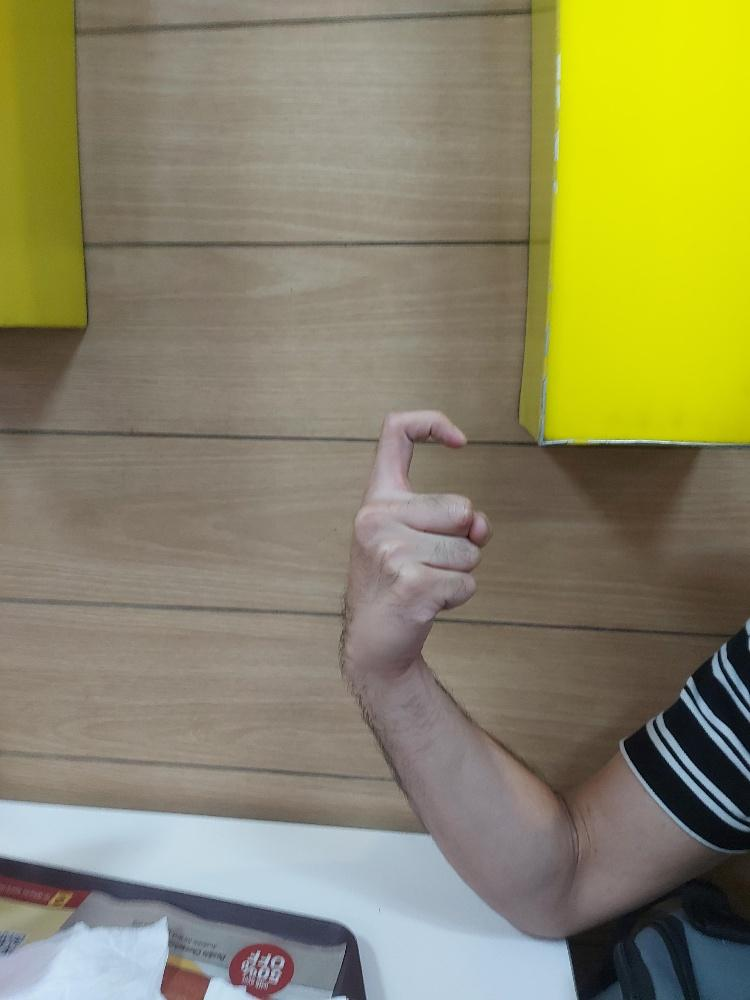x: (334, 403, 492, 678)
